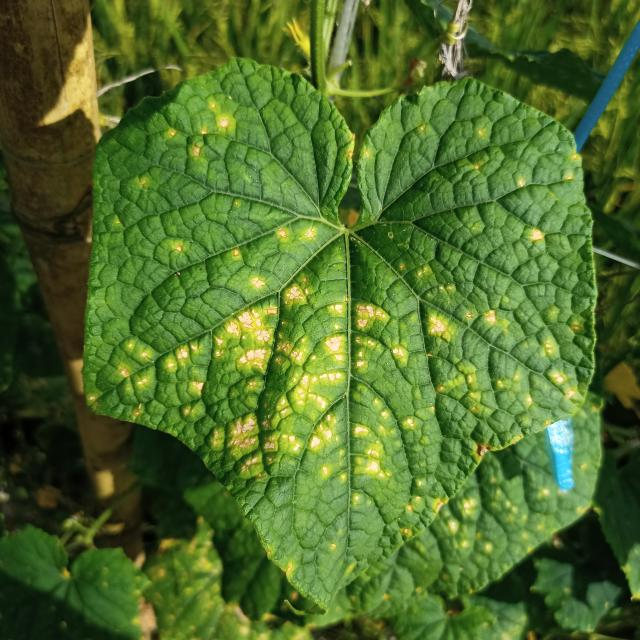disease_cucumber: (99, 89, 585, 536)
